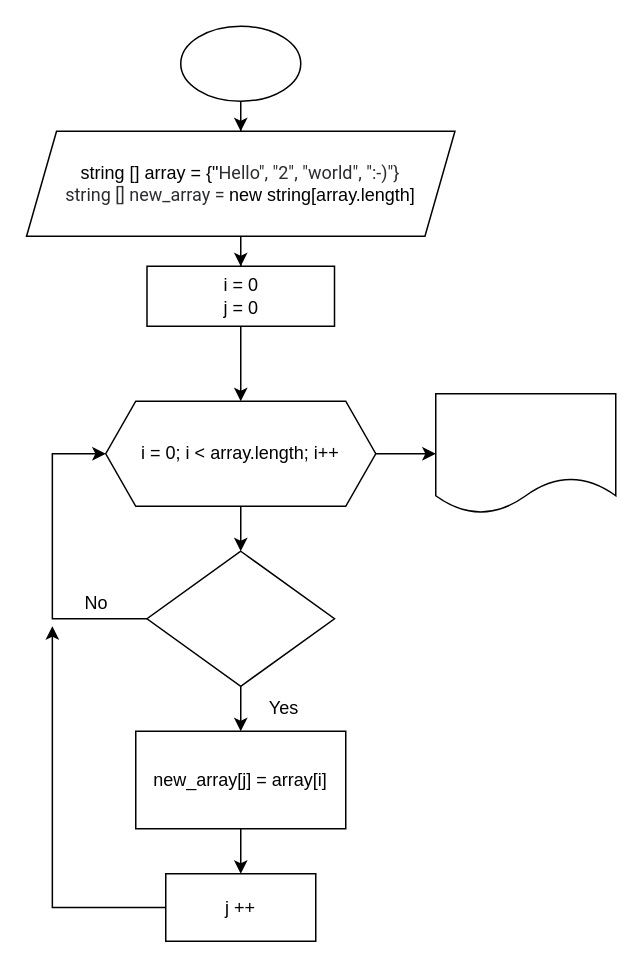
Image size: 642x968. Some labels were removed from this diagram. Here are the shapes that lost their labels. From the top down, the box of each, then its label:
(179, 25, 301, 101): Start
(434, 392, 616, 514): Print new_array
(146, 550, 334, 686): array[i].Length <=3?
